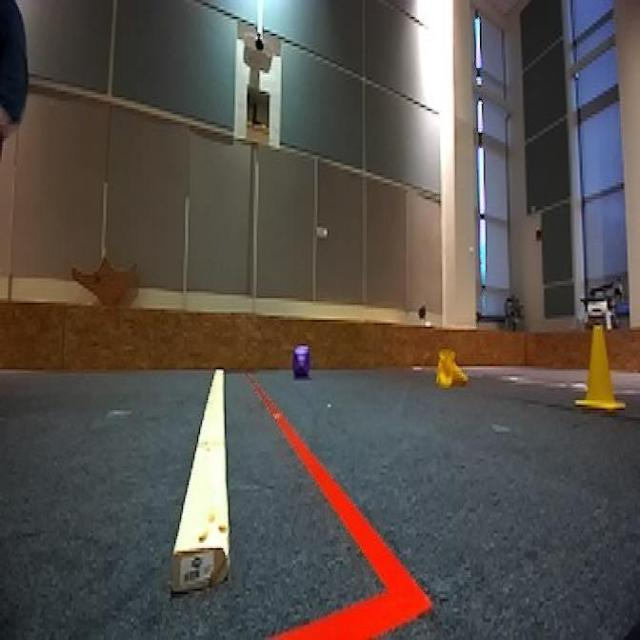frc_cone: (574, 322, 623, 410), (432, 345, 472, 390)
frc_cube: (292, 346, 310, 380)
